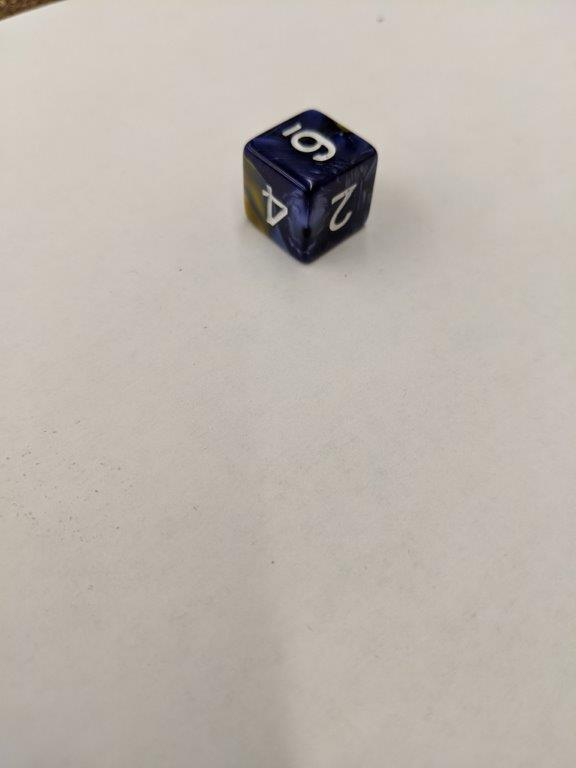d6-6: (241, 108, 377, 265)
